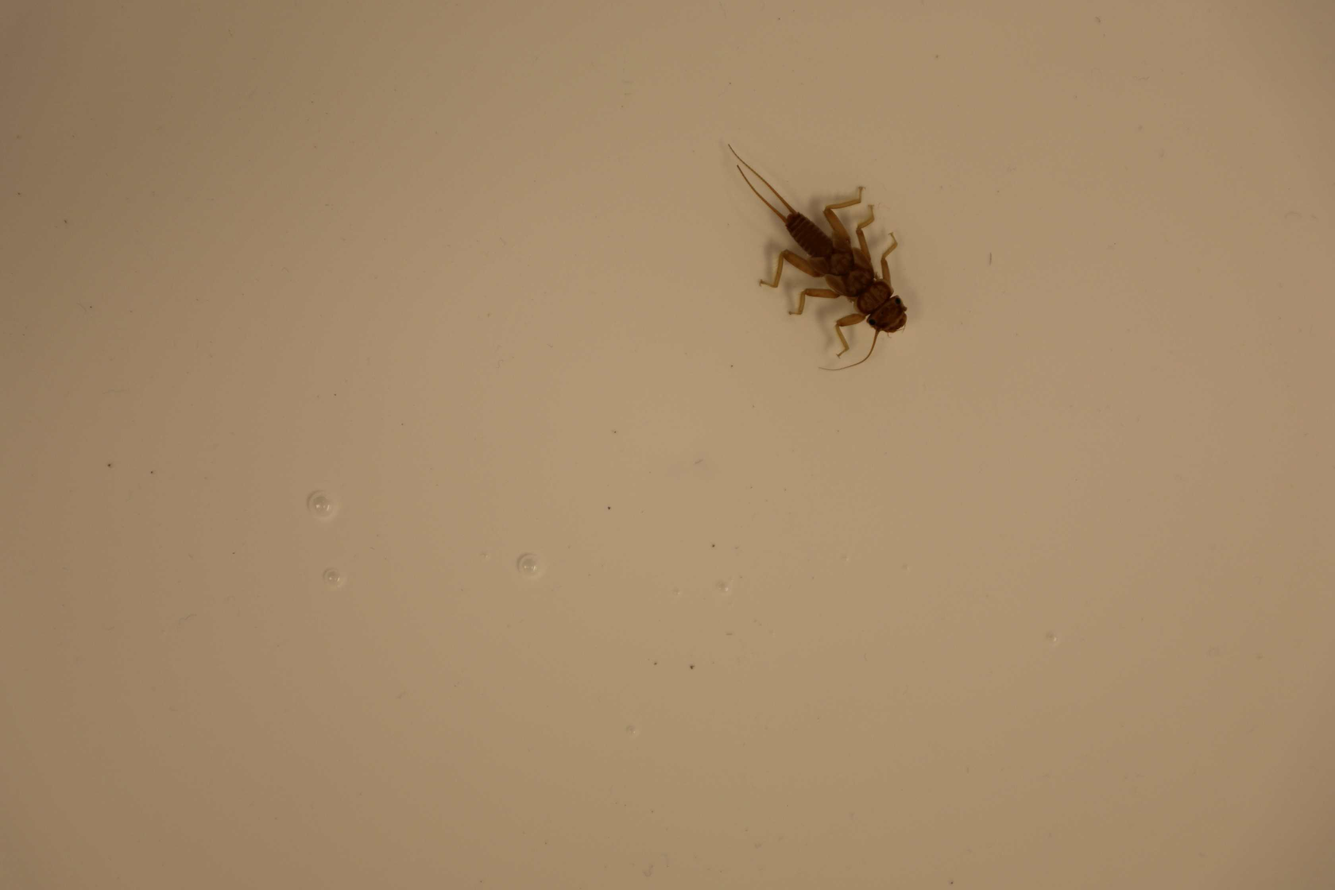Stonefly: (722, 140, 908, 370)
